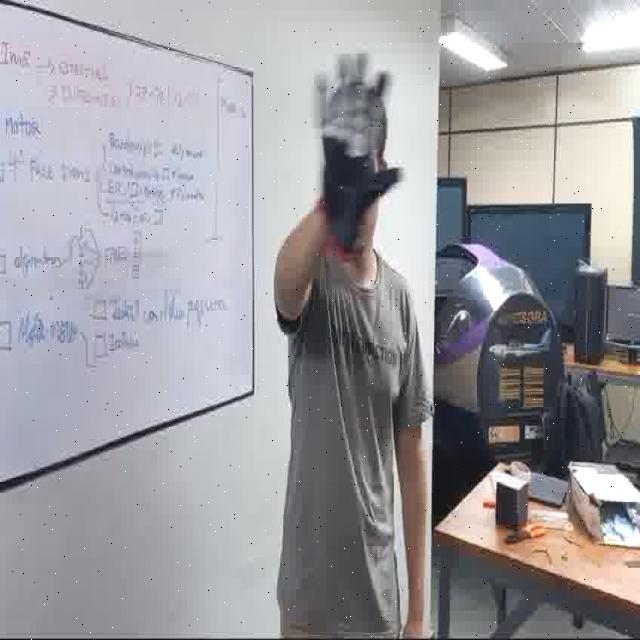Gloves: (313, 48, 407, 248)
